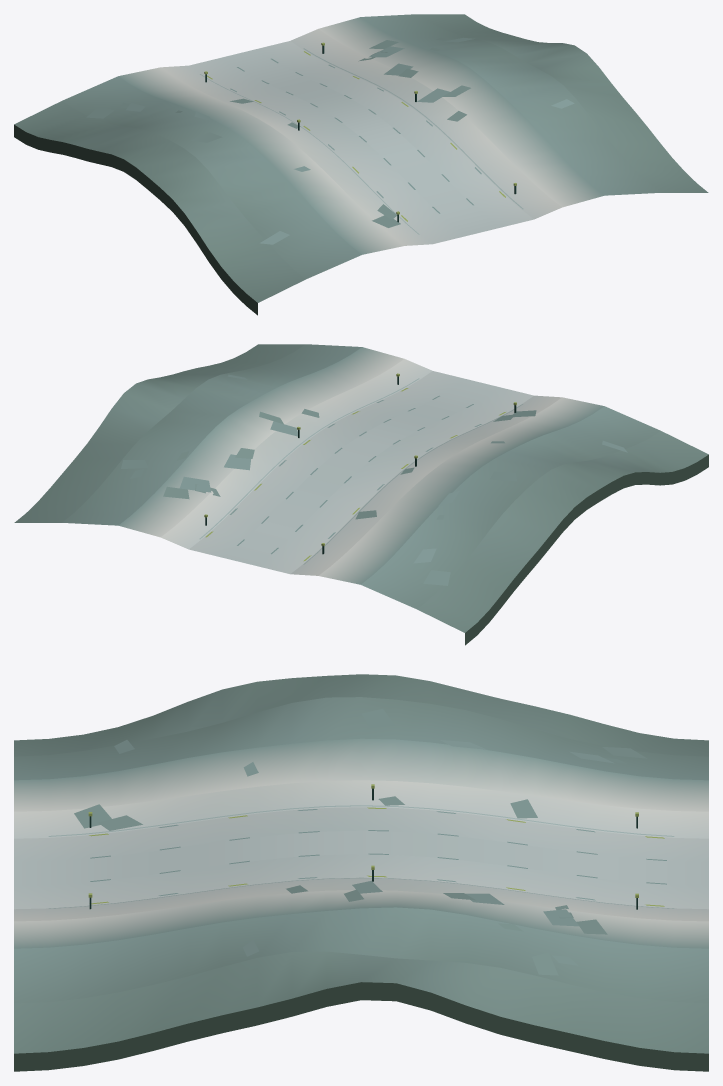
File: 03-slope.glb
3 renders of one model, top to bottom at view 1: azimuth 30°, elevation 25°; view 2: azimuth 150°, elevation 25°; view 3: azimuth 270°, elevation 25°, orthographic. The views are drawn at different scales.
Parts seen in each view (by area): view 1: slope; view 2: slope; view 3: slope.
Part boxes in pixels (x1,y1,x2,y2): slope: (14,14,708,315); slope: (14,344,708,645); slope: (14,674,708,1071).
Bounding box in the file's own units: 32 × 4.51 × 30.
